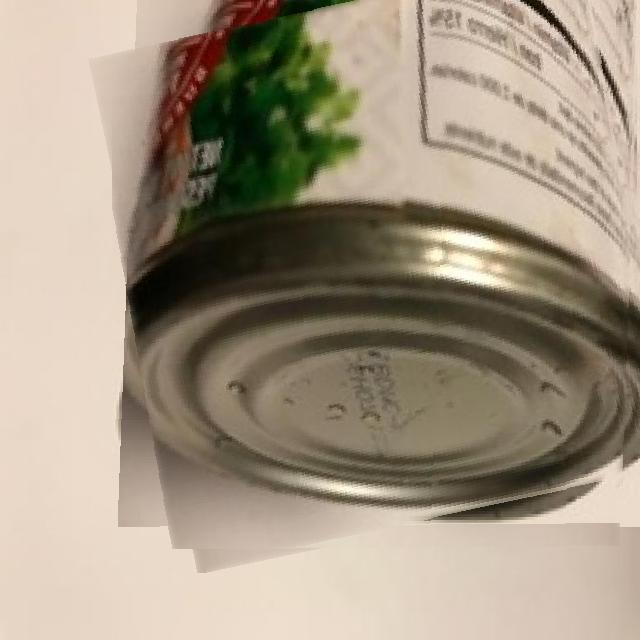recyclable: (112, 0, 640, 550)
